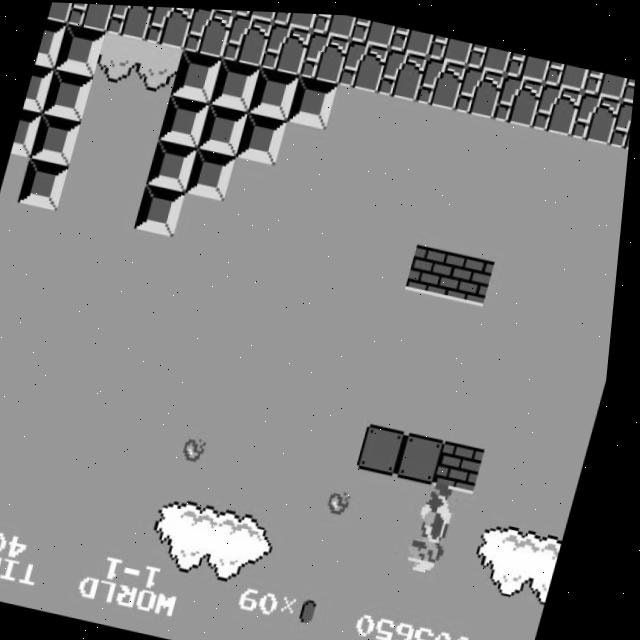1- brick_block: (448, 248, 500, 302), (441, 436, 493, 489), (409, 240, 461, 293)
17- undestructible_block: (532, 77, 584, 131), (493, 69, 545, 123), (416, 52, 468, 106), (377, 44, 429, 98), (338, 35, 390, 89), (299, 27, 351, 81), (260, 19, 312, 73), (221, 11, 273, 65), (571, 86, 623, 139), (455, 61, 507, 114), (182, 6, 234, 56), (143, 5, 194, 48), (104, 4, 155, 39), (543, 55, 590, 87), (466, 38, 512, 70), (427, 30, 473, 62), (349, 13, 395, 45), (582, 64, 629, 95), (66, 2, 116, 31), (505, 47, 551, 78), (388, 22, 434, 53), (610, 94, 635, 146), (310, 11, 356, 36), (272, 10, 317, 28), (46, 2, 76, 23), (232, 8, 277, 20), (621, 72, 636, 102)
3- empty_block: (364, 419, 416, 472), (402, 428, 454, 480)
4- fire_mario: (409, 475, 476, 577)
5- fireball: (189, 433, 215, 463), (335, 485, 361, 515)
9- hard_block: (288, 72, 340, 126), (249, 64, 301, 118), (137, 181, 189, 235), (171, 47, 223, 101), (237, 109, 289, 162), (210, 56, 262, 109), (20, 157, 72, 210), (43, 67, 95, 120), (199, 100, 250, 154), (160, 92, 211, 146), (187, 146, 239, 198), (148, 138, 200, 190), (32, 113, 84, 165), (55, 23, 106, 76), (24, 63, 56, 113), (36, 18, 67, 68), (13, 108, 44, 157)
